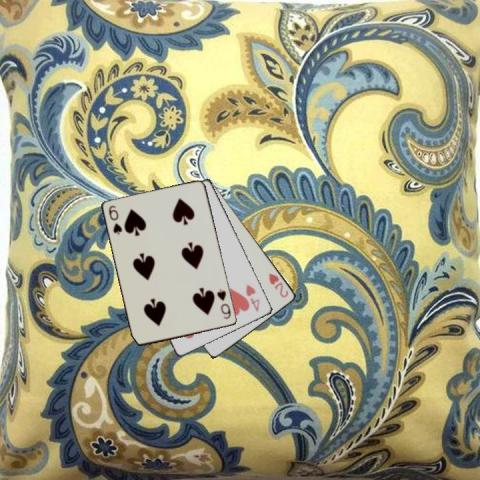2h: (266, 271, 290, 299)
4h: (243, 281, 262, 313)
6s: (214, 286, 233, 321), (106, 202, 123, 236)
